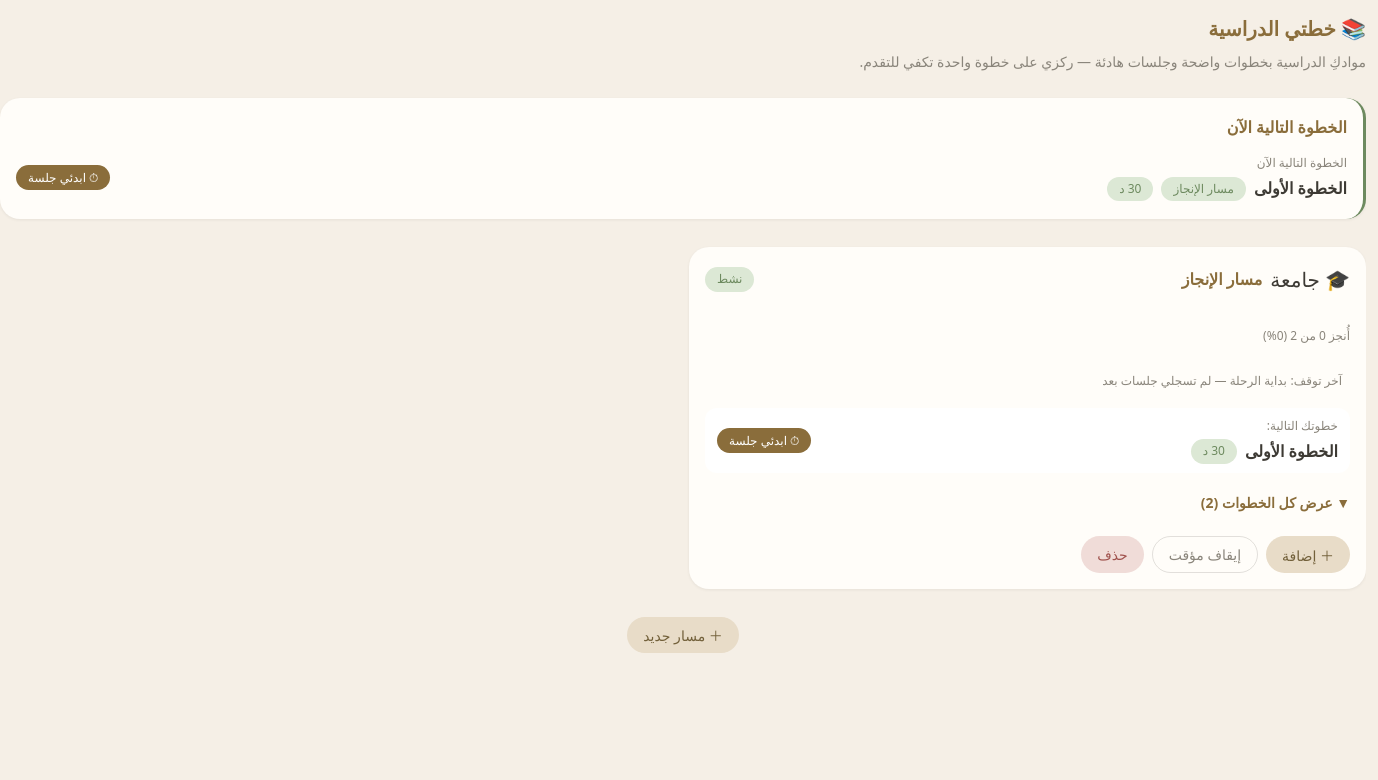
Test: MyPlanPage UI — إنجاز الخطوات من الصف (P0-2) › زر «تم» يُنجز الخطوة: الـDB + تقدّم حيّ + اختفاء الزر، ثم بانر الأتمتة
Expected: the heading "مسار الإنجاز" is shown, x1=1182 y1=266 x2=1262 y2=293
Click the button "▼ عرض كل الخطوات (2)" at point(1282, 503), box x1=705 y1=489 x2=1350 y2=516
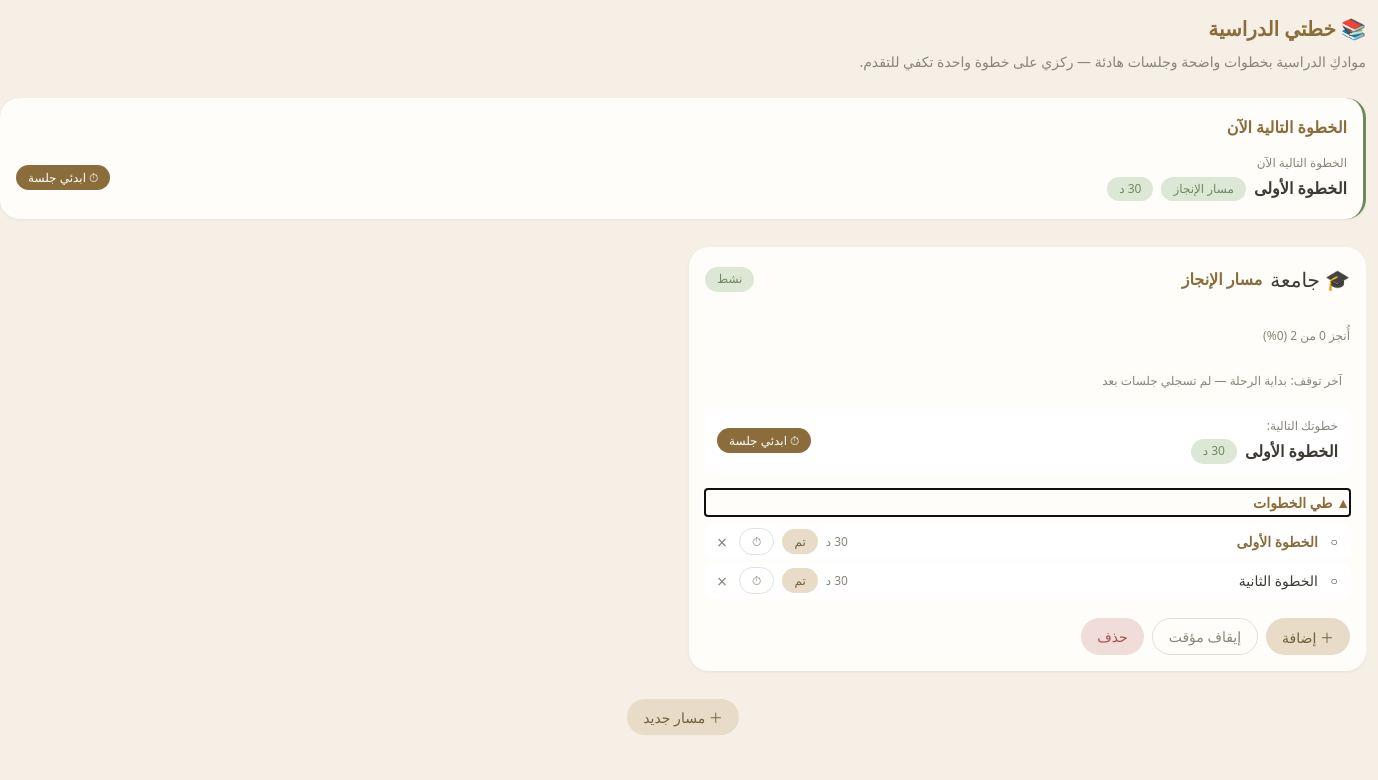
Now the number of buttons "تم" is 2
Click the 1st button "تم" at point(800, 542), box x1=782 y1=529 x2=818 y2=554
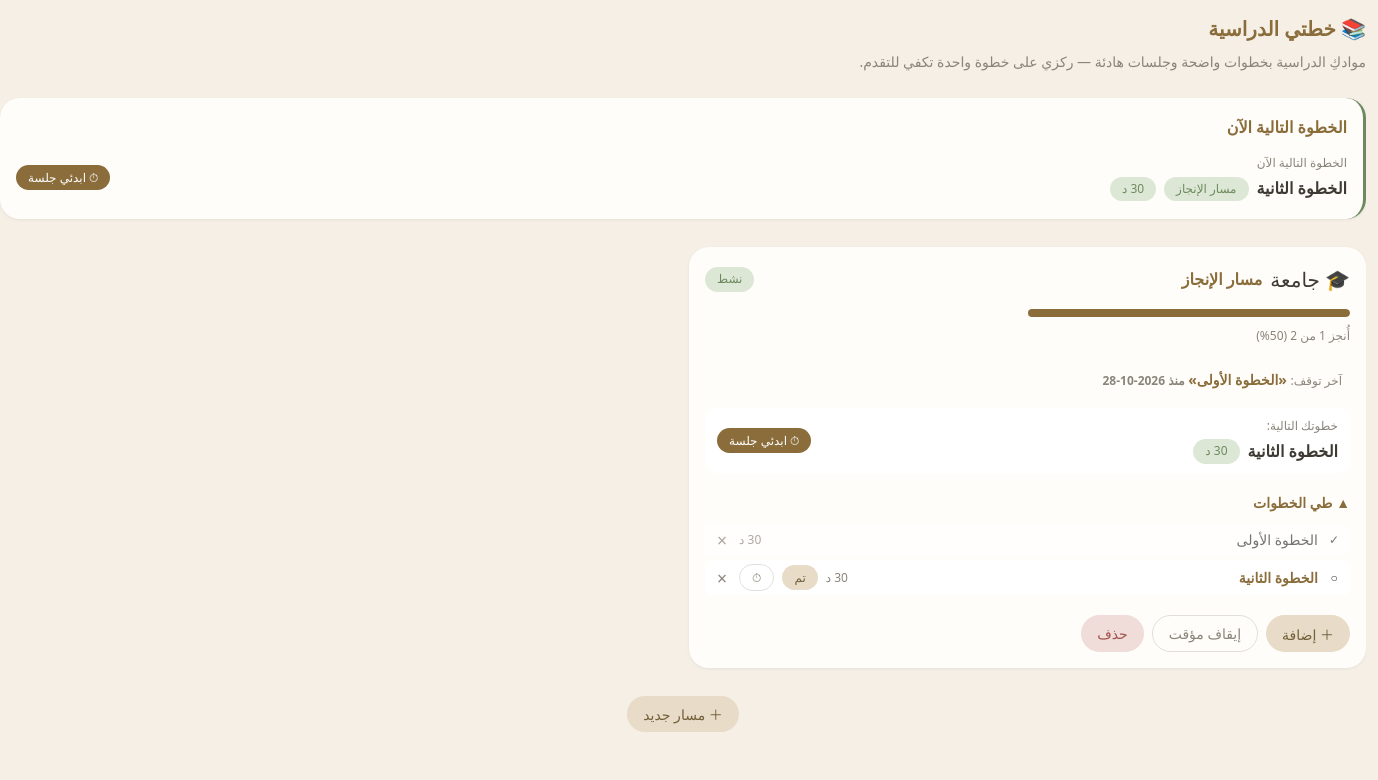
Now the text "أُنجز 1 من 2 (50%)" is shown, box x1=1256 y1=327 x2=1350 y2=344
Now the number of buttons "تم" is 1
// إنجاز الثانية ← البانر واختفاء كل الأزرار
Click the button "تم" at point(800, 578), box x1=782 y1=565 x2=818 y2=590
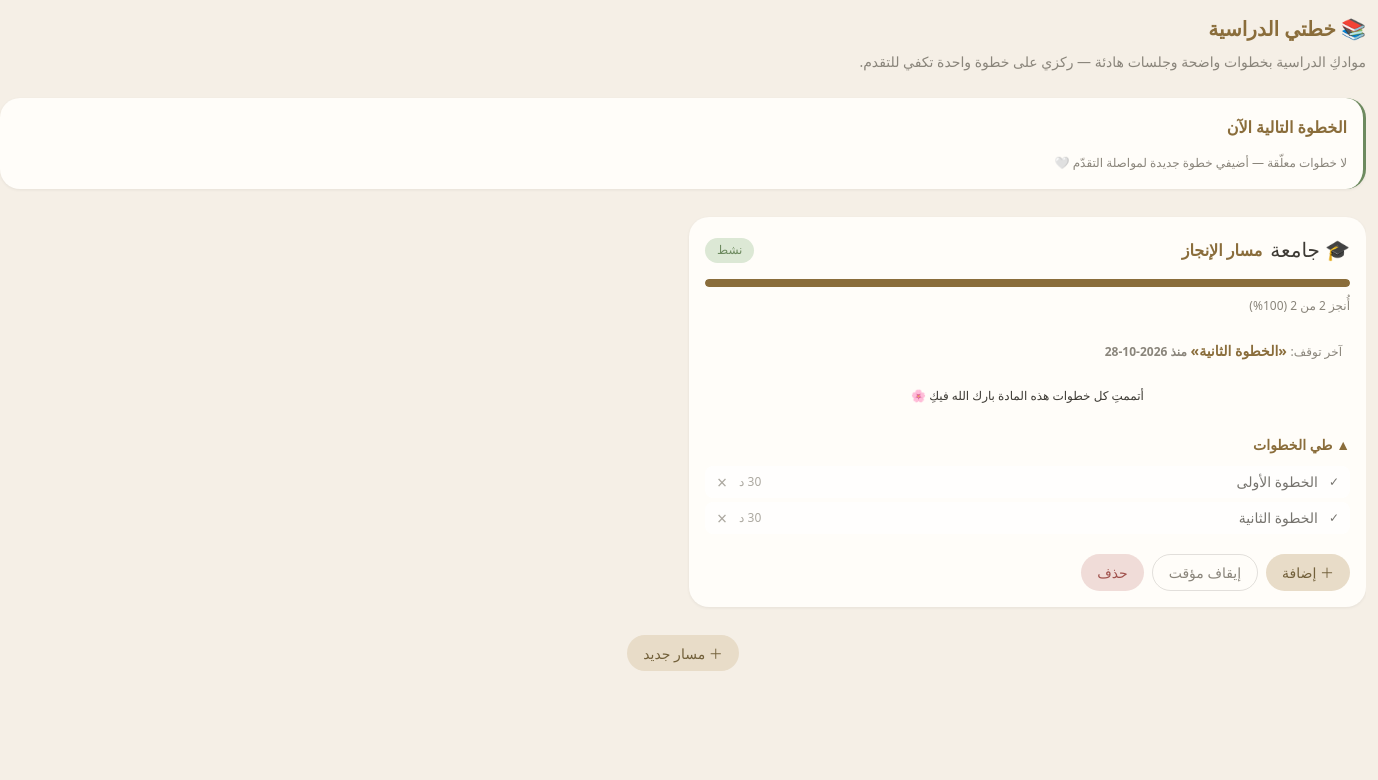
Now the text "أتممتِ كل خطوات هذه المادة بارك الله فيكِ 🌸" is shown, box x1=911 y1=387 x2=1144 y2=404
Now the text "أُنجز 2 من 2 (100%)" is shown, box x1=1249 y1=297 x2=1350 y2=314
